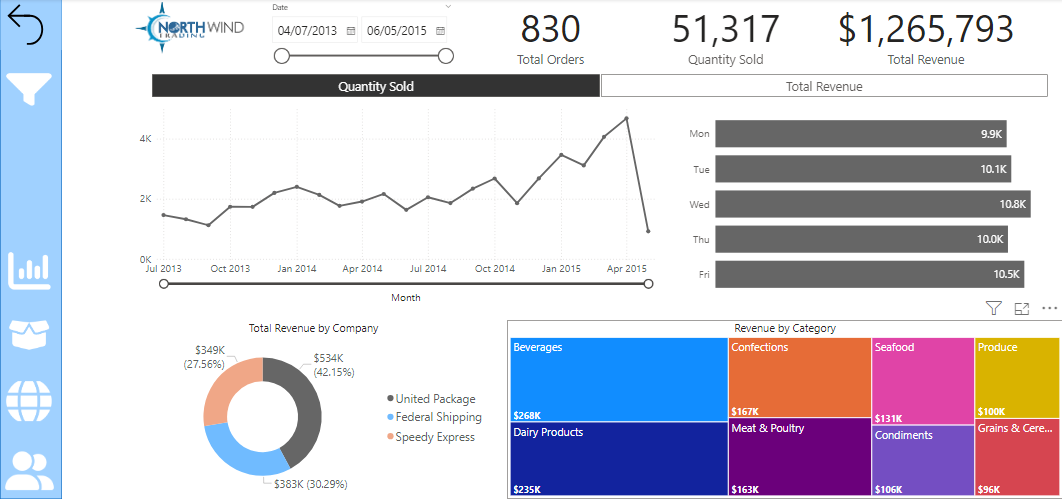

The dashboard page shown, as its layout file describes it:
{"tool":"powerbi","page":{"name":"Northwind Summary","canvas":[1700,800],"ordinal":0},"visuals":[{"type":"lineChart","title":"Quantity Sold Trending","fields":{"Y":["_Measures Table.Total Revenue"],"Category":["Calendar.Year","Calendar.Start of Month","Calendar.Start of Week"]},"box":[217.6,161.6,857.6,308.8],"z":0},{"type":"barChart","title":"Quantity Sold by Day of Week","fields":{"Y":["_Measures Table.Total Revenue"],"Category":["Calendar.Day Name"]},"box":[1094.4,158.4,606.4,312],"z":1000},{"type":"slicer","fields":{"Values":["Parametet 1.Parametet 1"]},"box":[217.6,113.6,1483.2,48],"z":2000},{"type":"shape","box":[0,0,99.2,800],"z":3000},{"type":"image","box":[198.4,0,224,113.6],"z":4000},{"type":"treemap","title":"Revenue by Category","fields":{"Group":["categories.categoryName"],"Values":["_Measures Table.Total Revenue"]},"box":[811.2,526.4,889.6,273.6],"z":5000},{"type":"card","fields":{"Values":["_Measures Table.Total Orders"]},"box":[748.8,0,264,113.6],"z":6000},{"type":"card","fields":{"Values":["_Measures Table.Total Revenue"]},"box":[1322.9,0,316.5,113.7],"z":7000},{"type":"card","fields":{"Values":["_Measures Table.Quantity Sold"]},"box":[1051.8,0,219.8,113.7],"z":8000},{"type":"donutChart","title":"Revenue by Company","fields":{"Y":["_Measures Table.Total Revenue"],"Category":["shippers.companyName"]},"box":[217.6,526.4,568,273.6],"z":9000},{"type":"slicer","fields":{"Values":["Calendar.Date"]},"box":[422.4,0,312,113.6],"z":10000},{"type":"image","box":[7.6,400,78.4,70.4],"z":11000},{"type":"image","box":[5.2,605.9,83.2,73.6],"z":12000},{"type":"image","box":[10,499.7,73.6,76.8],"z":13000},{"type":"image","box":[2.8,708.8,88,91.2],"z":14000},{"type":"actionButton","box":[0,0,99.2,81.6],"z":15000},{"type":"image","box":[4.8,113.6,83.2,62.4],"z":16000},{"type":"group","title":"Group 1","box":[0,0,217.6,800],"z":17000}]}

Visuals, with their boxes on the page's 1700x800 design canvas (x1, y1, x2, y2). These are canvas units, not pixel positions in the 1062x499 screenshot, which may show the page scaled, cropped or inside an application window:
"Quantity Sold Trending" lineChart: (x1=218, y1=162, x2=1075, y2=470)
"Quantity Sold by Day of Week" barChart: (x1=1094, y1=158, x2=1701, y2=470)
slicer - Parametet 1.Parametet 1: (x1=218, y1=114, x2=1701, y2=162)
shape: (x1=0, y1=0, x2=99, y2=800)
image: (x1=198, y1=0, x2=422, y2=114)
"Revenue by Category" treemap: (x1=811, y1=526, x2=1701, y2=800)
card - _Measures Table.Total Orders: (x1=749, y1=0, x2=1013, y2=114)
card - _Measures Table.Total Revenue: (x1=1323, y1=0, x2=1639, y2=114)
card - _Measures Table.Quantity Sold: (x1=1052, y1=0, x2=1272, y2=114)
"Revenue by Company" donutChart: (x1=218, y1=526, x2=786, y2=800)
slicer - Calendar.Date: (x1=422, y1=0, x2=734, y2=114)
image: (x1=8, y1=400, x2=86, y2=470)
image: (x1=5, y1=606, x2=88, y2=680)
image: (x1=10, y1=500, x2=84, y2=576)
image: (x1=3, y1=709, x2=91, y2=800)
actionButton: (x1=0, y1=0, x2=99, y2=82)
image: (x1=5, y1=114, x2=88, y2=176)
"Group 1" group: (x1=0, y1=0, x2=218, y2=800)
